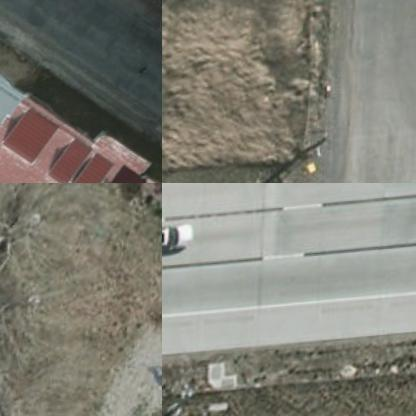car: (162, 224, 200, 255)
